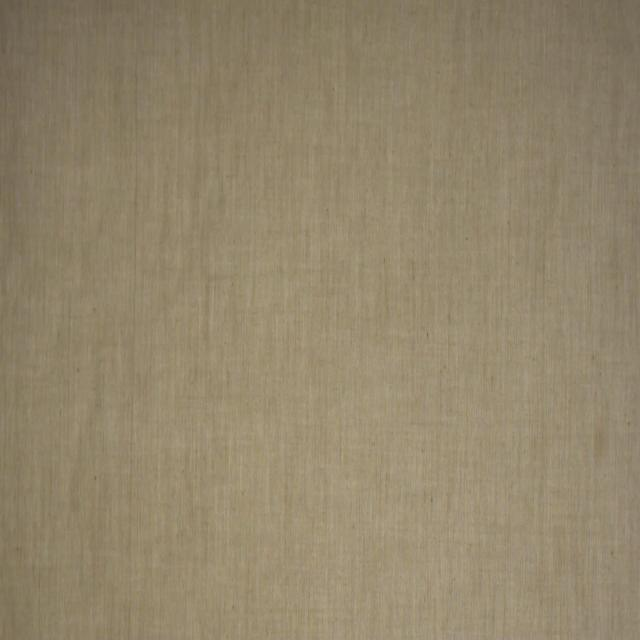dirty: (594, 422, 606, 460)
